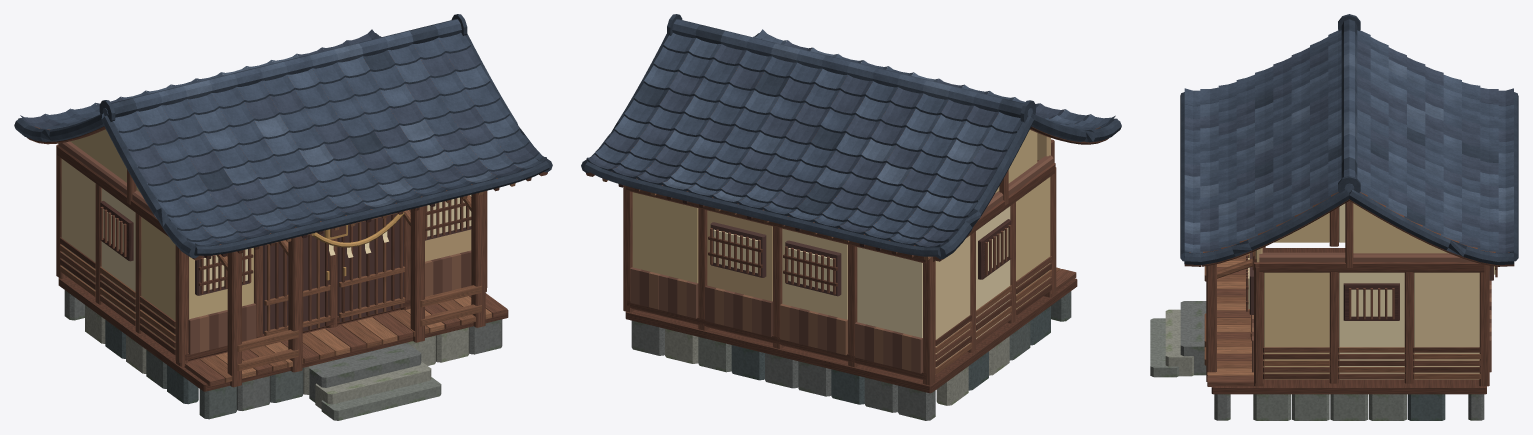
File: shrine.glb
3 views of the same model, side by side, from view 1: azimuth 30°, elevation 25°; view 2: azimuth 150°, elevation 25°; view 3: azimuth 270°, elevation 25° (orthographic). The views are drawn at different scales.
Visible parts, largest first — view 1: Fired roof tiles and ridge caps.001, Timber frame, sill, tongue-and-groove soffit and rafters.001, Plaster, infill and lattice.001, Cut stone foundations and steps.001, Fittings, paper and plaque.001; view 2: Fired roof tiles and ridge caps.001, Plaster, infill and lattice.001, Timber frame, sill, tongue-and-groove soffit and rafters.001, Cut stone foundations and steps.001; view 3: Fired roof tiles and ridge caps.001, Timber frame, sill, tongue-and-groove soffit and rafters.001, Plaster, infill and lattice.001, Cut stone foundations and steps.001.
Boxes of the visible parts, x1,y1,x2,y2 form: Fired roof tiles and ridge caps.001: (14, 14, 552, 258); Timber frame, sill, tongue-and-groove soffit and rafters.001: (27, 48, 547, 391); Plaster, infill and lattice.001: (58, 129, 471, 354); Cut stone foundations and steps.001: (64, 290, 502, 420); Fittings, paper and plaque.001: (311, 212, 404, 280); Fired roof tiles and ridge caps.001: (581, 14, 1121, 259); Plaster, infill and lattice.001: (630, 130, 1053, 373); Timber frame, sill, tongue-and-groove soffit and rafters.001: (586, 70, 1108, 393); Cut stone foundations and steps.001: (631, 291, 1071, 420); Fired roof tiles and ridge caps.001: (1180, 14, 1518, 264); Timber frame, sill, tongue-and-groove soffit and rafters.001: (1184, 192, 1514, 394); Plaster, infill and lattice.001: (1248, 203, 1495, 379); Cut stone foundations and steps.001: (1150, 301, 1484, 420).
Bounding box in the file's own units: 7.31 × 5.25 × 6.82.
6 materials, 3 textured.
